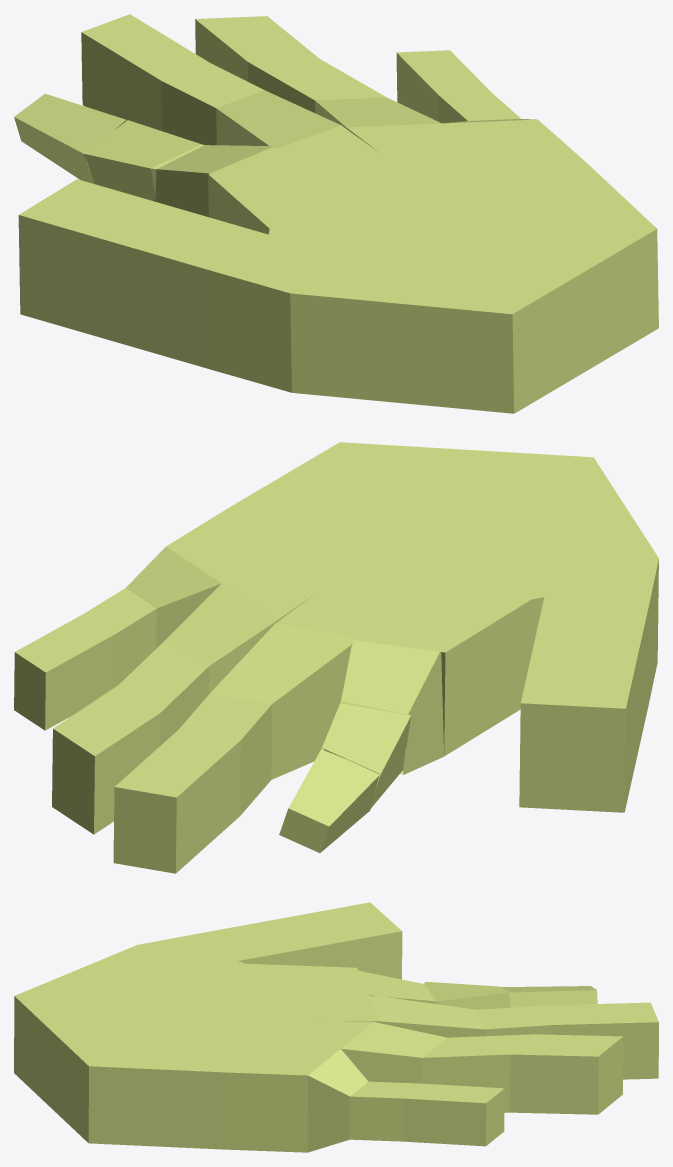
The model's file is mana_simpla.fbx.
The picture shows the model from 3 angles, top to bottom: view 1: azimuth 30°, elevation 25°; view 2: azimuth 150°, elevation 25°; view 3: azimuth 270°, elevation 25°; orthographic projection. The views are drawn at different scales.
Parts seen in each view (by area): view 1: Cube; view 2: Cube; view 3: Cube.
Boxes of the visible parts, x1,y1,x2,y2 form: Cube: (14, 14, 658, 413); Cube: (14, 442, 658, 873); Cube: (14, 902, 658, 1152).
Size of the model in its own units: 650 by 133 by 931.
